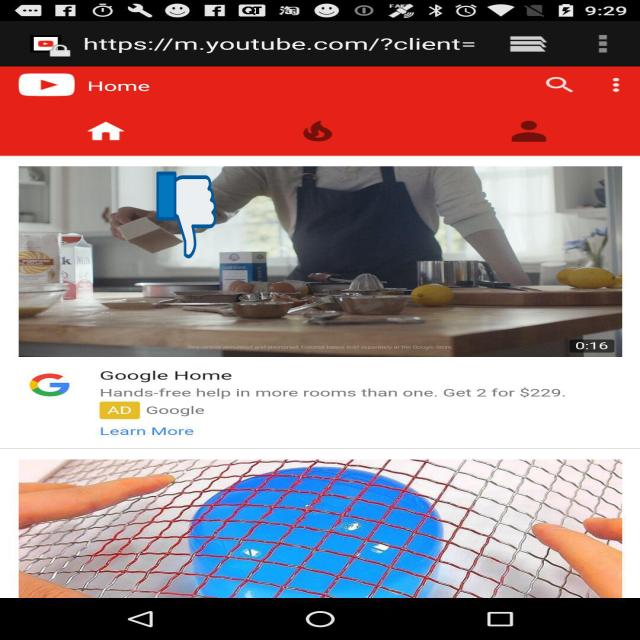obstruction: (156, 170, 216, 260)
